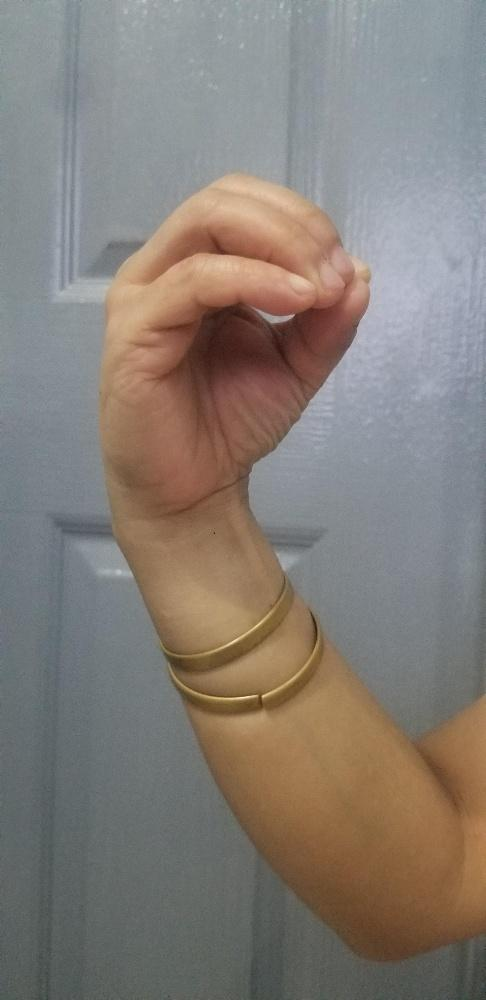o: (93, 164, 373, 491)
